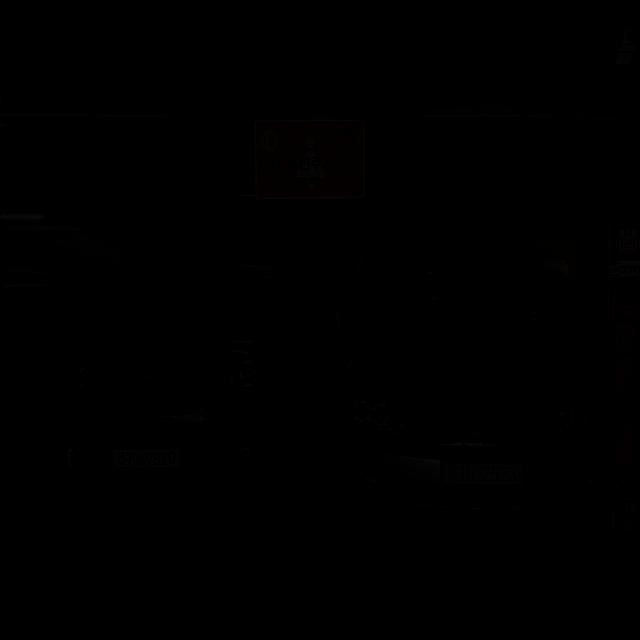occupied: (323, 262, 600, 552), (65, 274, 287, 526)
